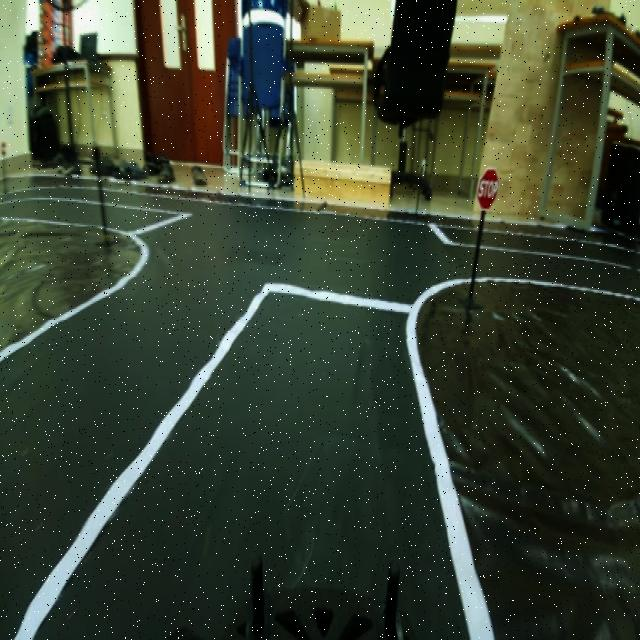stop: (474, 162, 503, 215)
